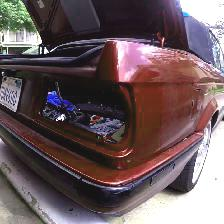tail_lamp: (35, 77, 147, 162)
